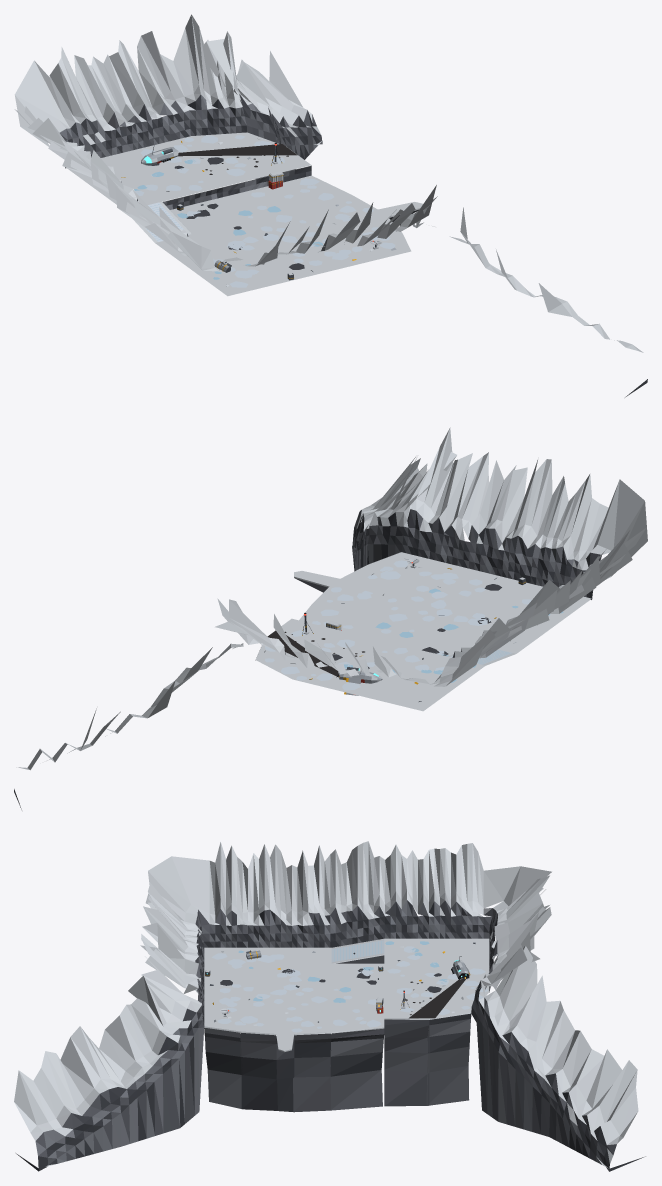
The model's file is summit.glb.
3 views of the same model, one above another, from view 1: azimuth 30°, elevation 25°; view 2: azimuth 150°, elevation 25°; view 3: azimuth 270°, elevation 25° (orthographic). The views are drawn at different scales.
Visible parts, largest first — view 1: Summit; view 2: Summit; view 3: Summit.
Boxes of the visible parts, <box> form: Summit: <box>14,14,647,397</box>; Summit: <box>14,427,647,809</box>; Summit: <box>14,841,645,1171</box>.
Size of what is drawn, in the model's own units: 78.91 by 38.51 by 127.
